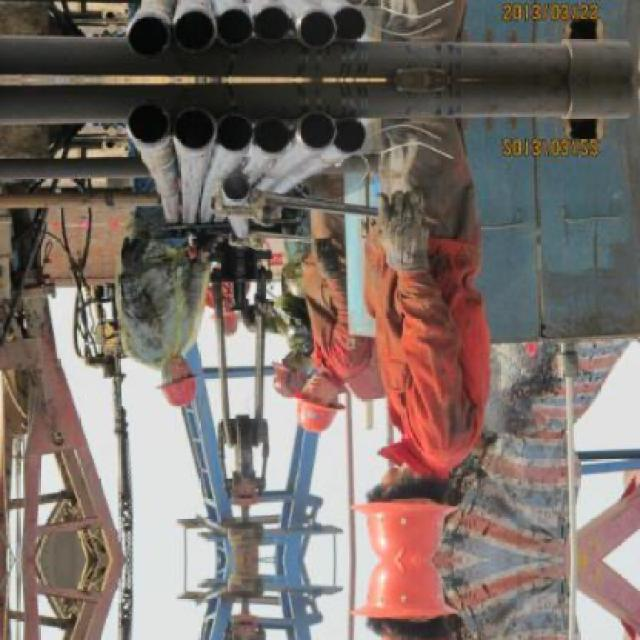con casco: (354, 448, 494, 561), (286, 358, 364, 436), (143, 342, 205, 411)
